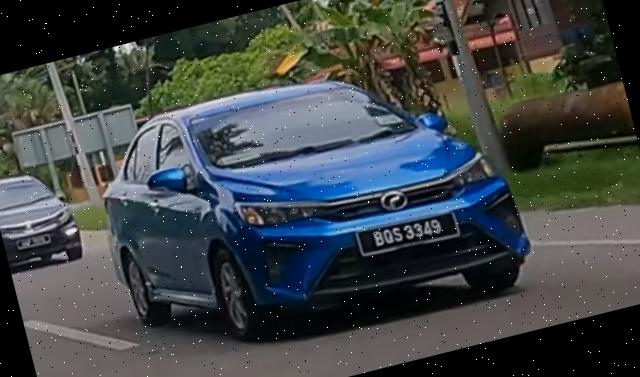License_Plate: (353, 205, 463, 261)
car: (80, 31, 542, 377), (1, 160, 86, 275)
